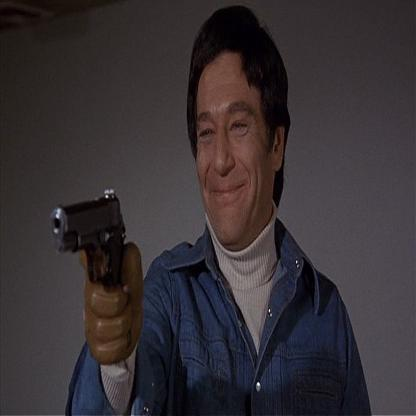gun: (40, 172, 130, 325)
